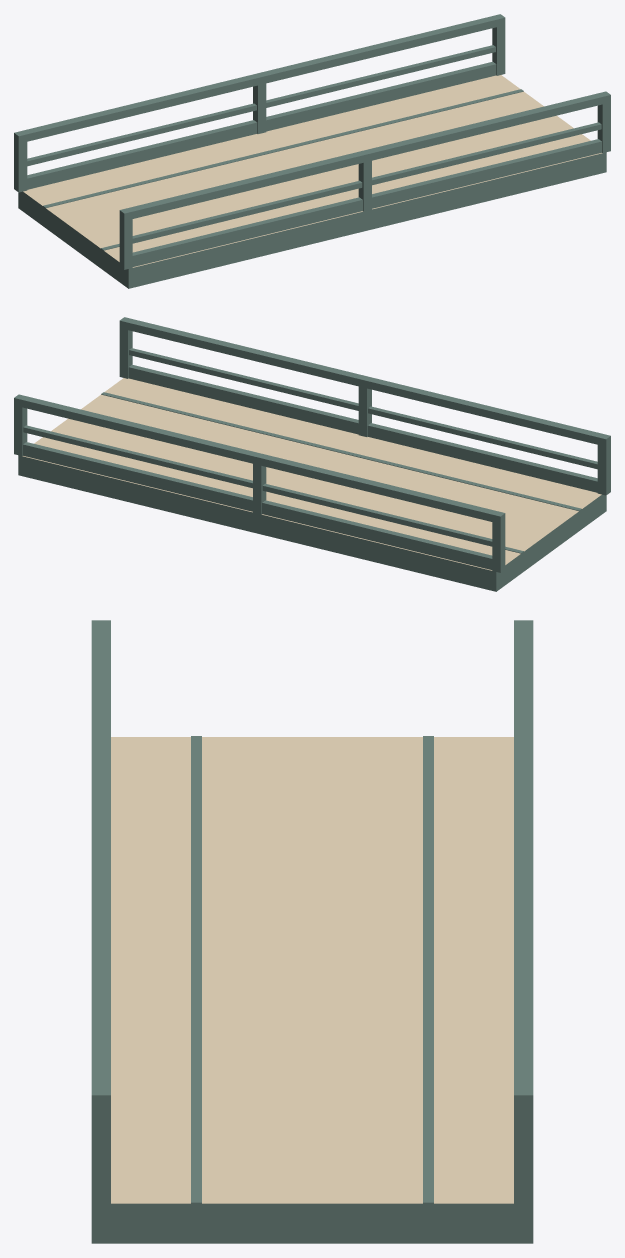
Rendered from Walkway_Straight_4m.glb.
The picture shows the model from 3 angles, top to bottom: view 1: azimuth 30°, elevation 25°; view 2: azimuth 150°, elevation 25°; view 3: azimuth 270°, elevation 25°; orthographic projection. The views are drawn at different scales.
Visible parts, largest first — view 1: Walkway_Straight_4m; view 2: Walkway_Straight_4m; view 3: Walkway_Straight_4m.
Part boxes in pixels (box(x1,y1,x2,y2)): Walkway_Straight_4m: box(14, 14, 610, 288); Walkway_Straight_4m: box(14, 317, 610, 591); Walkway_Straight_4m: box(91, 620, 533, 1243).
Bounding box in the file's own units: 4.07 × 0.61 × 1.6.
